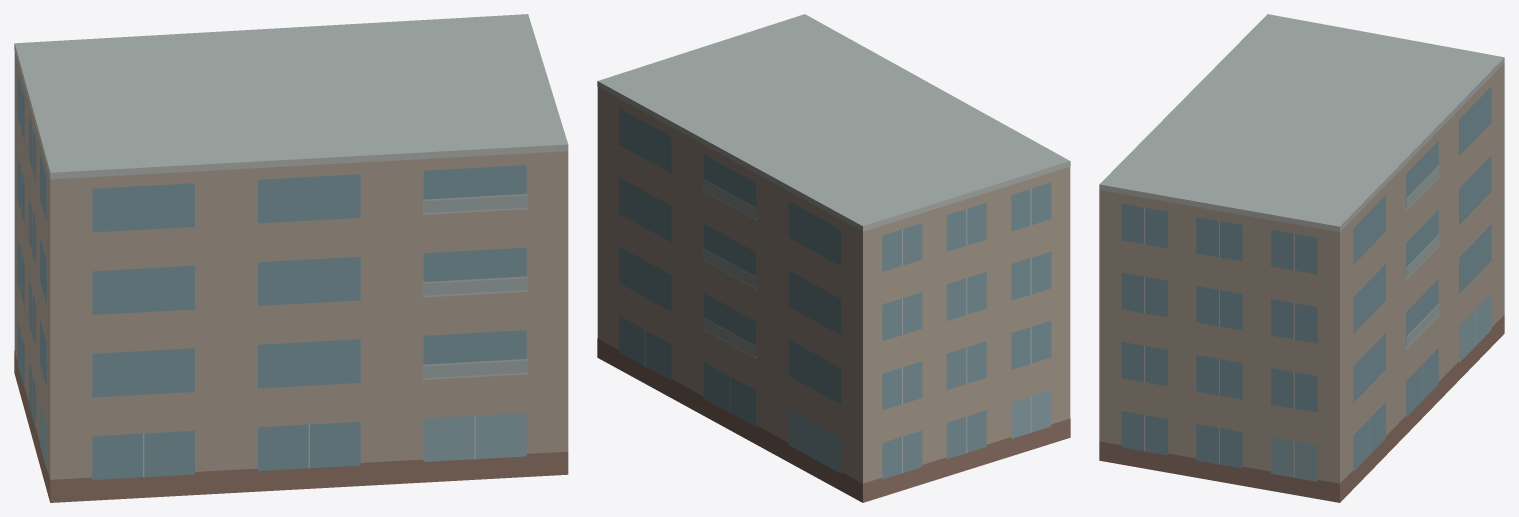
File: survey-upis-32995258.glb
3 views of the same model, side by side, from view 1: azimuth 30°, elevation 25°; view 2: azimuth 150°, elevation 25°; view 3: azimuth 270°, elevation 25° (orthographic). The views are drawn at different scales.
Parts seen in each view (by area): view 1: survey-upis-32995258.tmp; view 2: survey-upis-32995258.tmp; view 3: survey-upis-32995258.tmp.
Part boxes in pixels (x1,y1,x2,y2): survey-upis-32995258.tmp: (14,14,568,502); survey-upis-32995258.tmp: (597,14,1070,502); survey-upis-32995258.tmp: (1099,14,1504,502).
Size of the model in its own units: 20.16 by 12.2 by 16.24.
